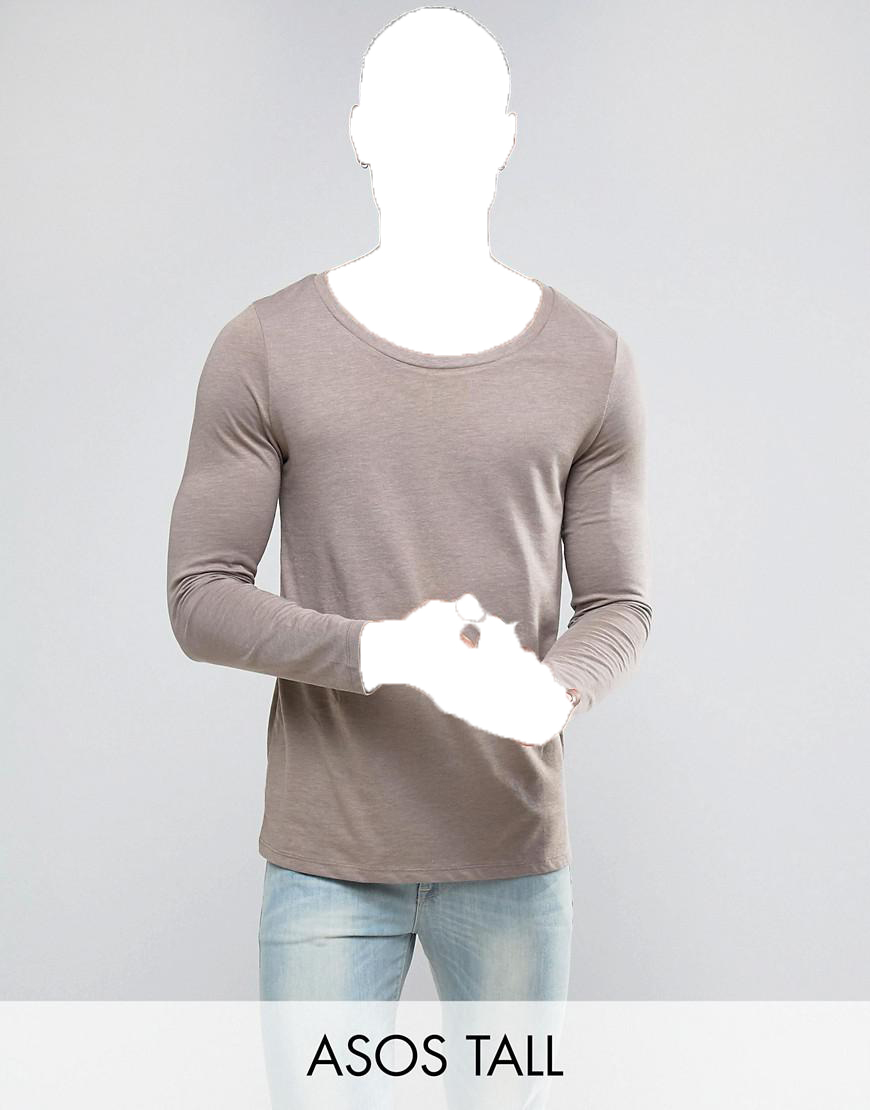teeshirt: (152, 276, 673, 890)
